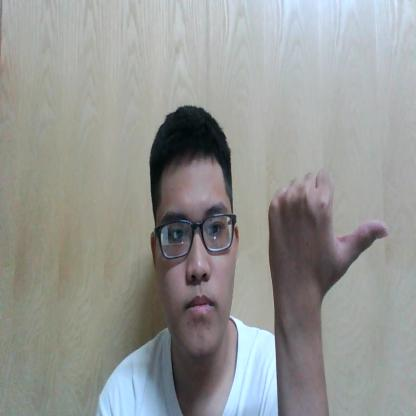left: (266, 167, 389, 300)
